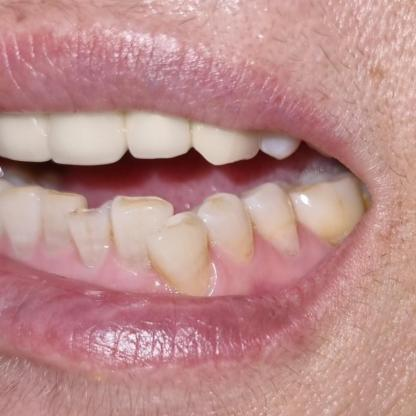Crowding: (111, 196, 207, 291), (42, 188, 112, 267)
